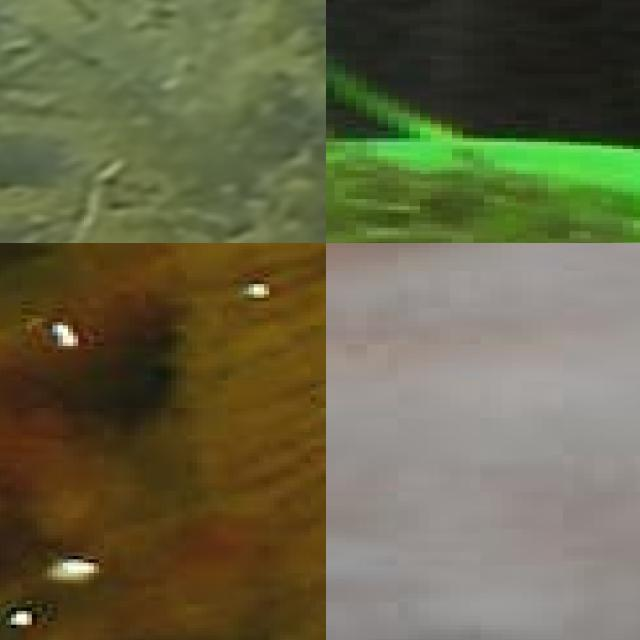fish: (0, 0, 326, 243)
